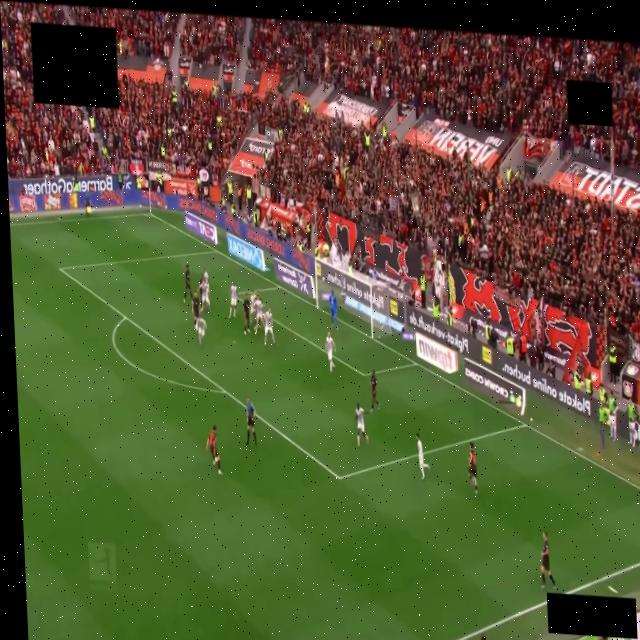player: (540, 531, 555, 589), (206, 426, 221, 474), (416, 434, 429, 479), (355, 404, 368, 447), (625, 402, 637, 447), (467, 443, 477, 493), (263, 309, 275, 345), (369, 370, 379, 413), (608, 396, 617, 442), (328, 291, 338, 330), (325, 333, 335, 372), (252, 295, 262, 334), (200, 277, 210, 311), (183, 265, 191, 303), (196, 316, 206, 345), (243, 295, 250, 334), (192, 292, 199, 329), (229, 285, 237, 317), (250, 290, 257, 306), (203, 269, 208, 285), (637, 422, 639, 451)
referee: (246, 398, 256, 446)
